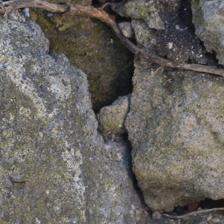Crack: (54, 34, 142, 163), (81, 57, 224, 127)
